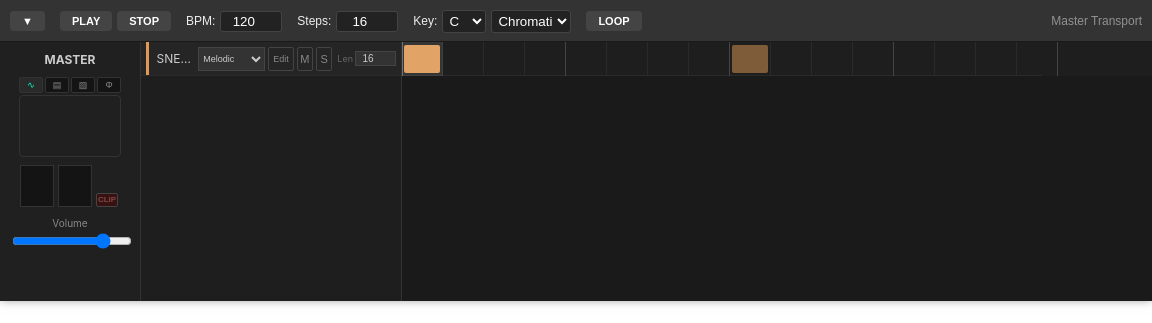
Test case: SequencerDock — which editor Edit opens › respects an explicit Melodic override on a drum patch
Click the button with test id "track-edit-kick-track".
click(281, 58)  # box left=268, top=46, right=294, bottom=70
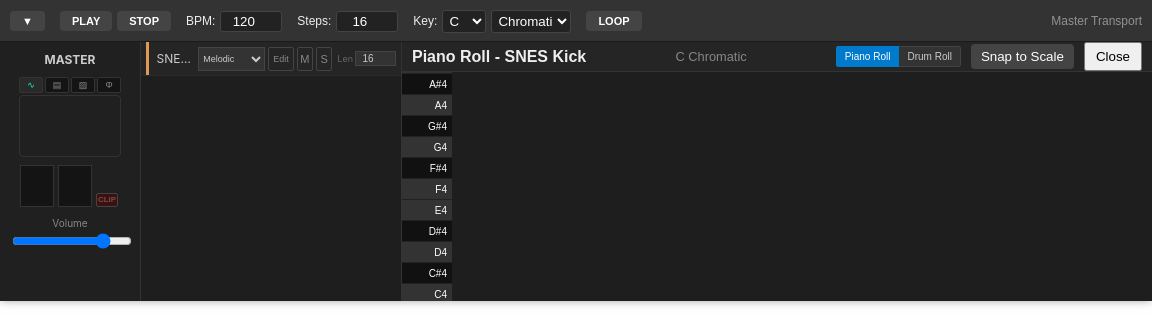
Result: the element with test id "piano-roll-scroll-container" is shown at left=402, top=72, right=1151, bottom=301
